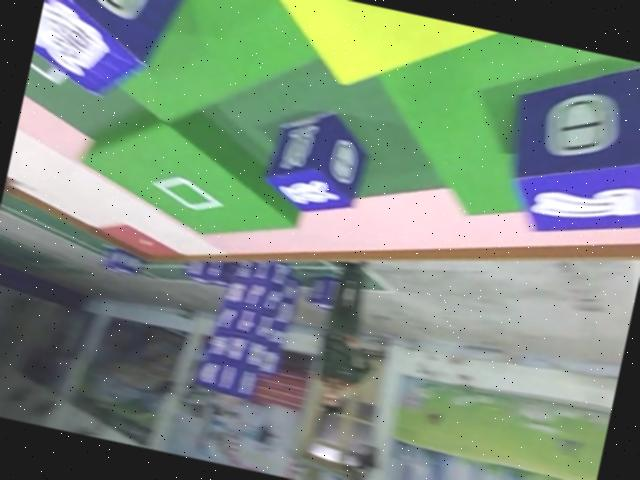R2 Fake Blue: (493, 40, 640, 260), (26, 0, 198, 111), (257, 99, 373, 220)
